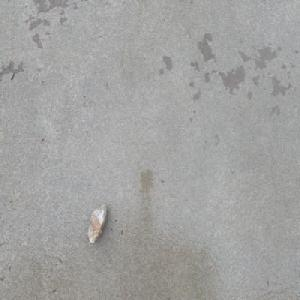Rock: (87, 202, 107, 246)
